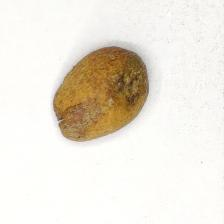NG: (115, 47, 149, 107), (51, 100, 98, 141)
